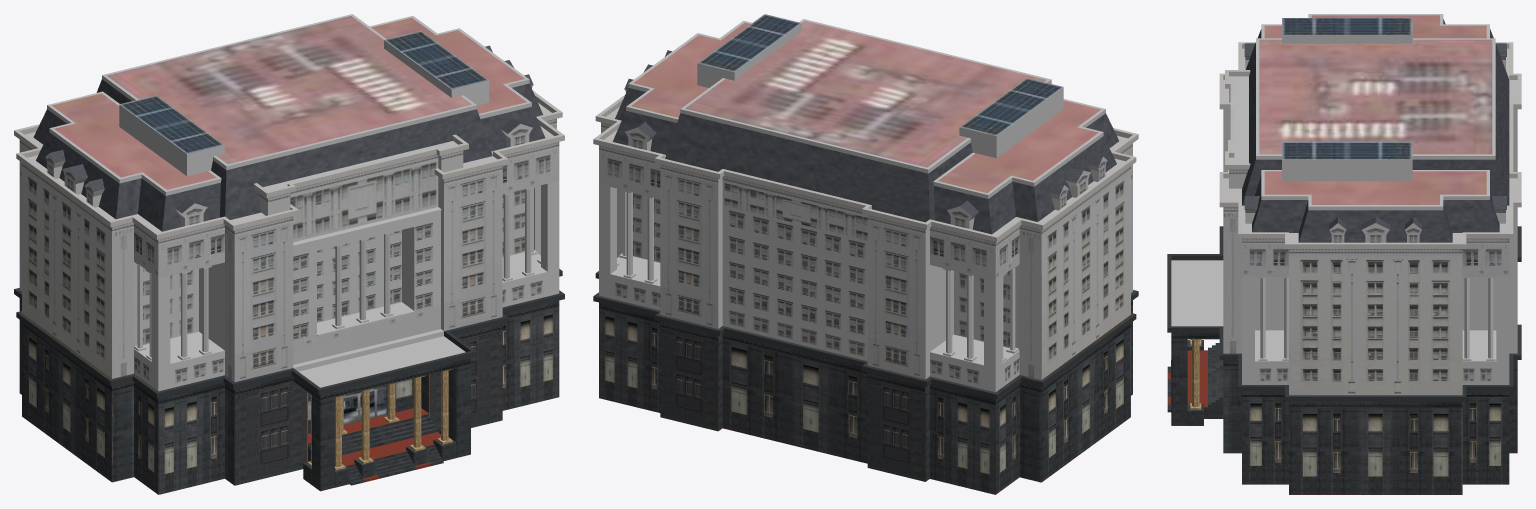
3 renders of one model, left to right at view 1: azimuth 30°, elevation 25°; view 2: azimuth 150°, elevation 25°; view 3: azimuth 270°, elevation 25°, orthographic. The views are drawn at different scales.
Visible parts, largest first — view 1: HN522___Toa_an_cap_cao_HN; view 2: HN522___Toa_an_cap_cao_HN; view 3: HN522___Toa_an_cap_cao_HN.
Boxes of the visible parts, bbox=[...] form: HN522___Toa_an_cap_cao_HN: bbox=[14, 14, 564, 494]; HN522___Toa_an_cap_cao_HN: bbox=[593, 14, 1138, 494]; HN522___Toa_an_cap_cao_HN: bbox=[1167, 14, 1521, 494].
Size of the model in its own units: 77.2 by 51.19 by 54.43.
1 material, 1 textured.
